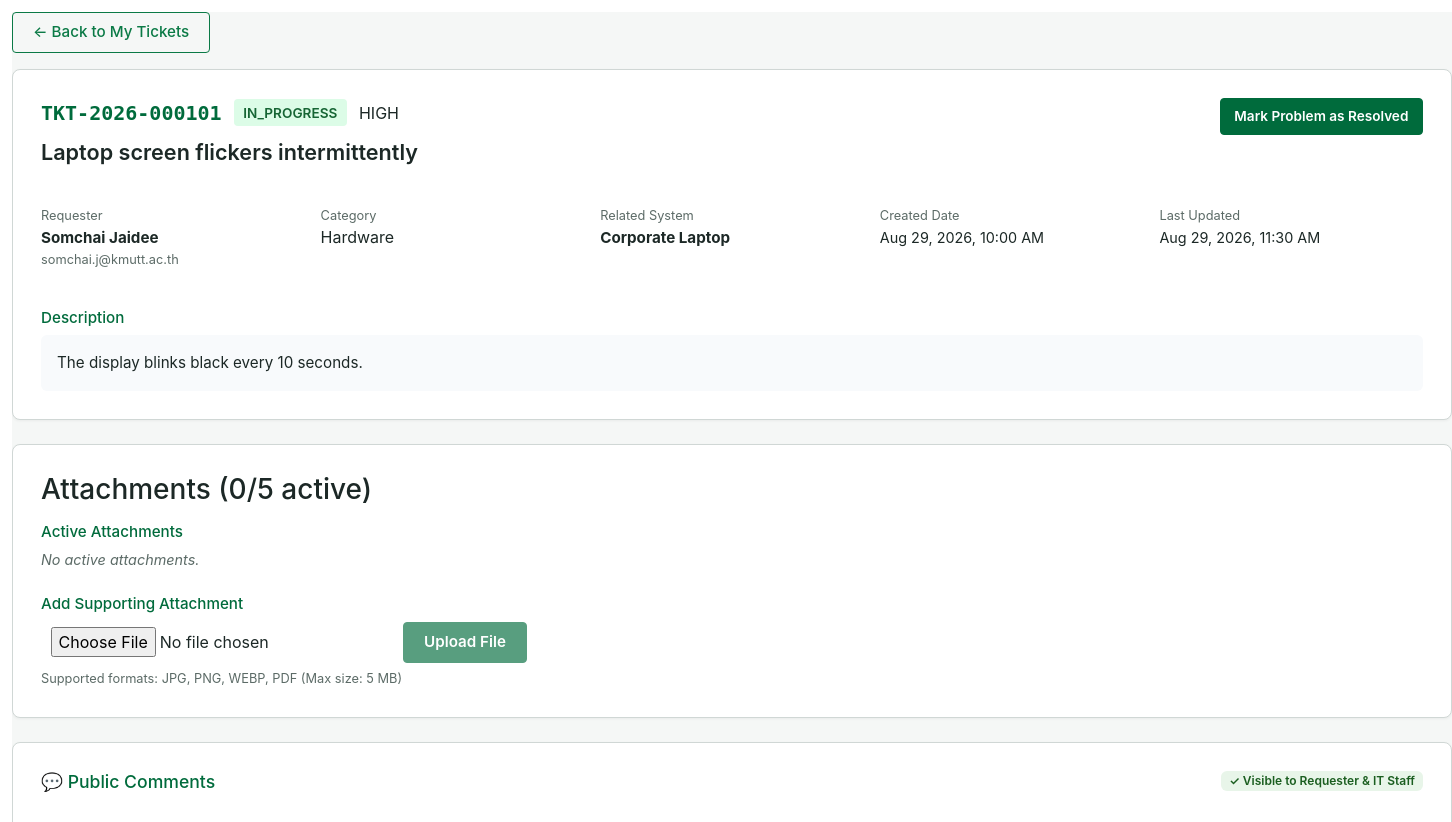
Test case: RequesterTicketDetail - Problem Appears Resolved Indicator (REQ-03, AC-08, BR-10) › REQ-03 / AC-08: toggles problemAppearsResolved to true on button click
Click the button with test id "toggle-problem-resolved-btn".
click(1321, 116)  # box x1=1220 y1=98 x2=1423 y2=135
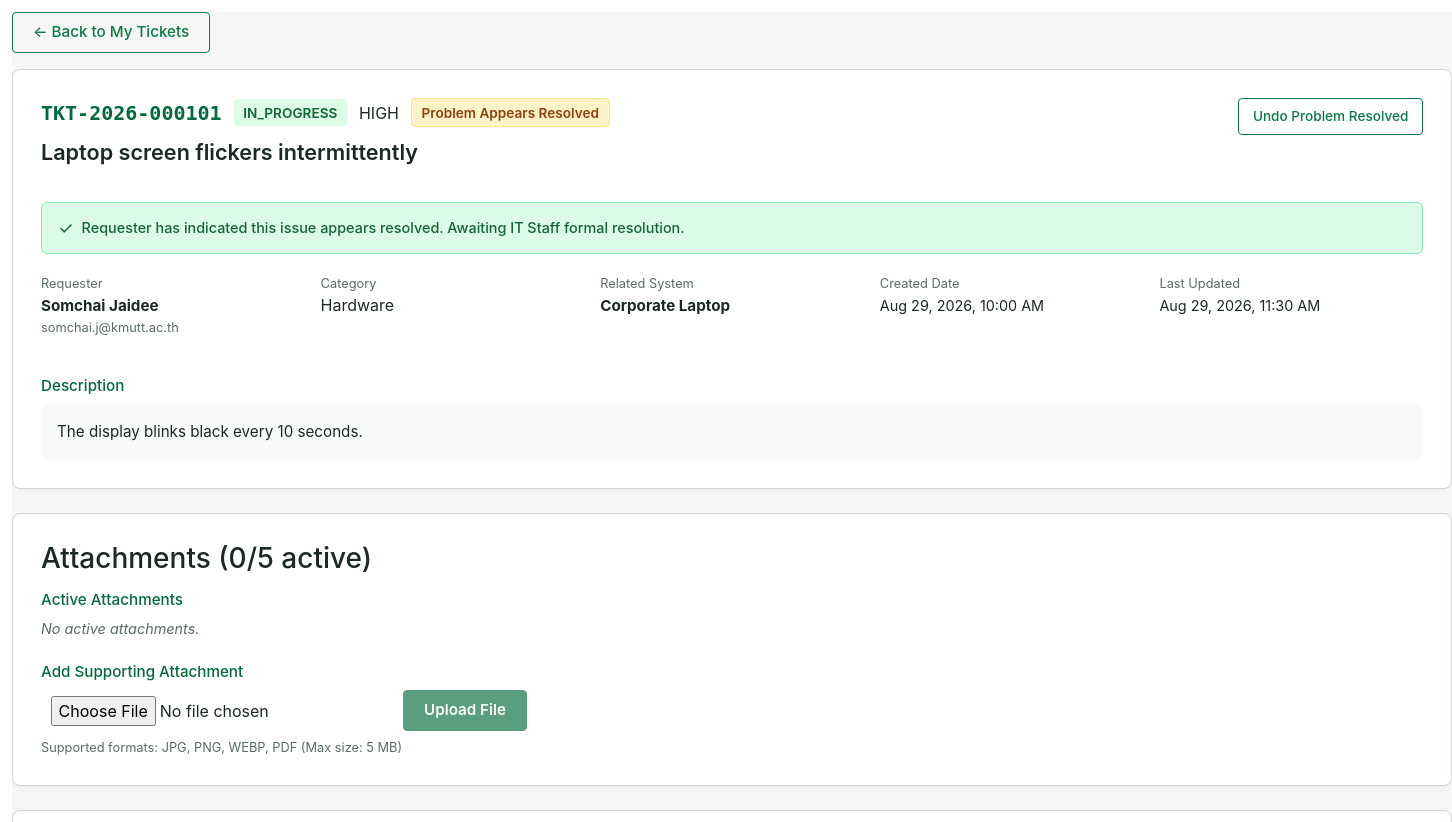
Now the text with test id "problem-resolved-badge" reads "Problem Appears Resolved", box x1=422 y1=105 x2=599 y2=121
Now the element with test id "problem-resolved-banner" is shown, box x1=41 y1=202 x2=1423 y2=254
Now the button with test id "toggle-problem-resolved-btn" reads "Undo Problem Resolved", box x1=1238 y1=98 x2=1423 y2=135
